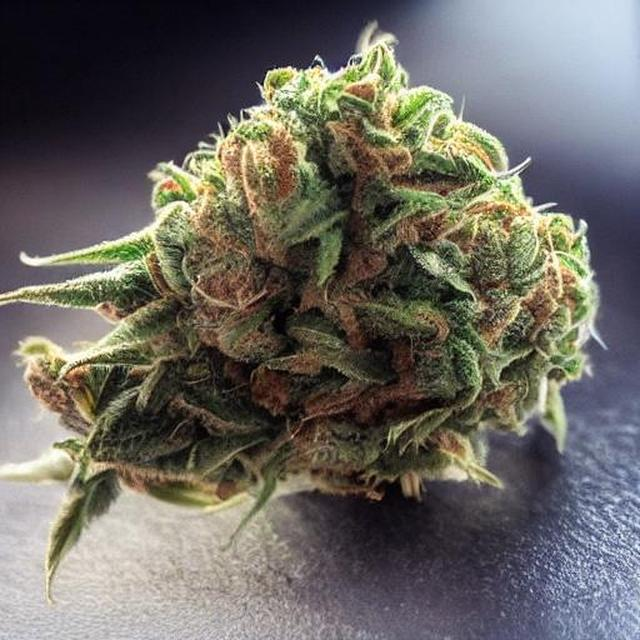Marijuana Plant: (0, 0, 638, 563)
